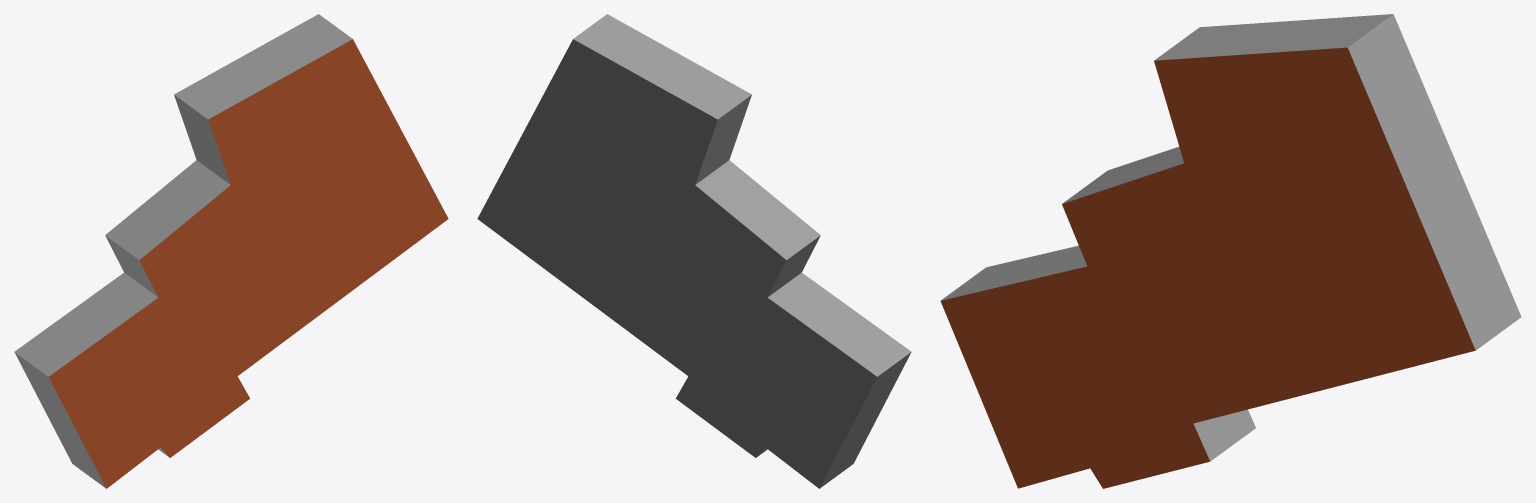
Rendered from construction_3645_assumed_A_Casa_h6m.obj.
The picture shows the model from 3 angles, left to right: view 1: azimuth 30°, elevation 25°; view 2: azimuth 150°, elevation 25°; view 3: azimuth 330°, elevation 25°; orthographic projection. The views are drawn at different scales.
Parts seen in each view (by area): view 1: construction_3645_assumed_A_Casa; view 2: construction_3645_assumed_A_Casa; view 3: construction_3645_assumed_A_Casa.
Boxes of the visible parts, x1=… form: construction_3645_assumed_A_Casa: x1=14, y1=14, x2=448, y2=488; construction_3645_assumed_A_Casa: x1=477, y1=14, x2=911, y2=488; construction_3645_assumed_A_Casa: x1=940, y1=14, x2=1521, y2=488.
Bounding box in the file's own units: 40.46 × 37.67 × 6.
